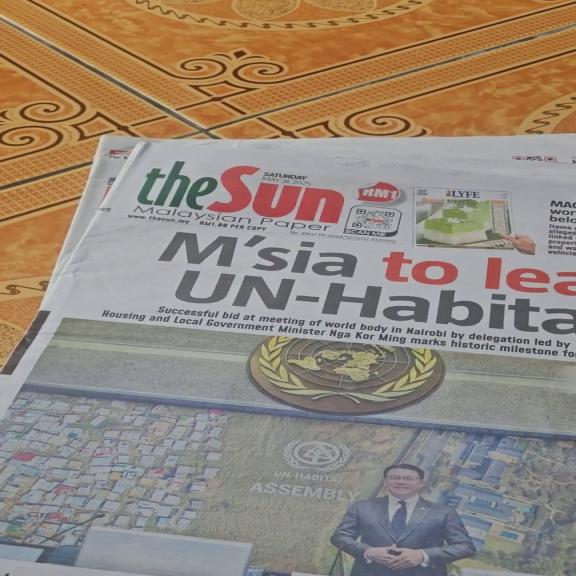Kertas: (105, 138, 568, 565)
